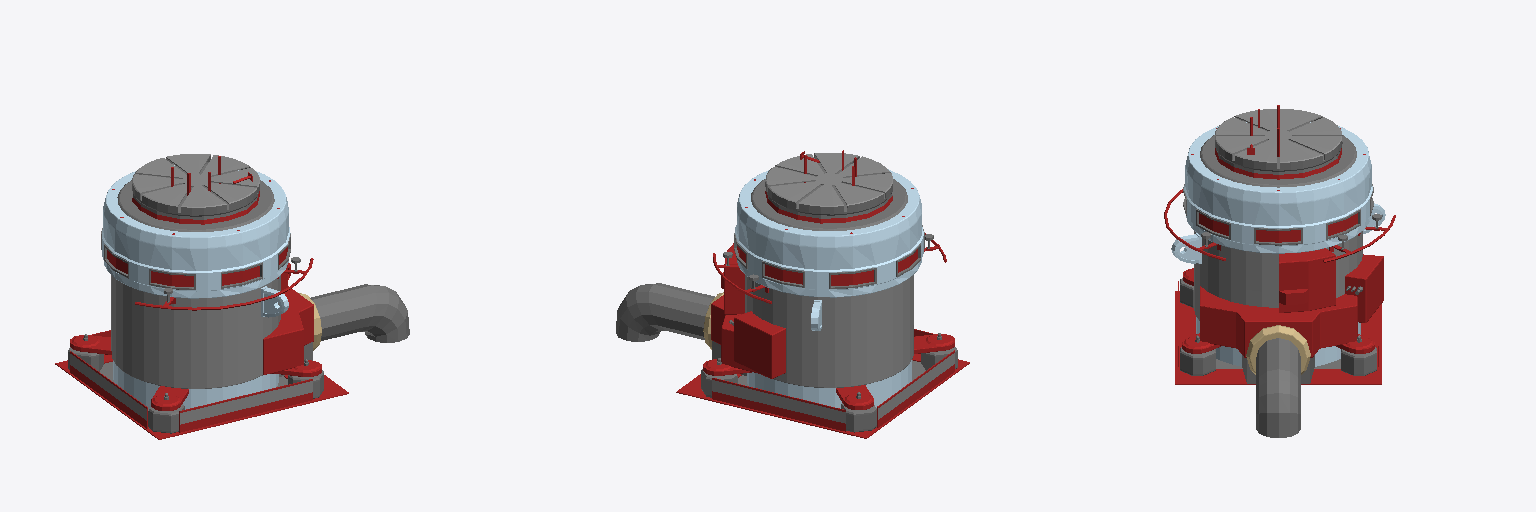
The model's file is 09ZDT_CT.obj.
3 renders of one model, left to right at view 1: azimuth 30°, elevation 25°; view 2: azimuth 150°, elevation 25°; view 3: azimuth 270°, elevation 25°, orthographic.
Parts seen in each view (by area): view 1: Metal_02, Part_metal_02, Metal_Red, Matal_05, Part_Metal_03, Metal_03, Tex; view 2: Metal_02, Metal_Red, Part_metal_02, Matal_05, Part_Metal_03, Metal_03, Tex; view 3: Metal_Red, Metal_02, Matal_05, Part_Metal_03, Metal_03, Part_metal_02, Metal_Yellow, Tex.
Part boxes in pixels (bbox=[...]): Metal_02: bbox=[102, 165, 290, 409]; Part_metal_02: bbox=[111, 275, 280, 388]; Metal_Red: bbox=[55, 191, 348, 439]; Matal_05: bbox=[68, 156, 323, 433]; Part_Metal_03: bbox=[132, 154, 259, 207]; Metal_03: bbox=[83, 257, 409, 399]; Tex: bbox=[70, 288, 312, 424]; Metal_02: bbox=[735, 169, 923, 408]; Metal_Red: bbox=[676, 191, 969, 438]; Part_metal_02: bbox=[745, 275, 913, 387]; Matal_05: bbox=[701, 154, 957, 432]; Part_Metal_03: bbox=[765, 153, 892, 206]; Metal_03: bbox=[616, 234, 941, 398]; Tex: bbox=[712, 275, 954, 423]; Metal_Red: bbox=[1164, 148, 1395, 384]; Metal_02: bbox=[1171, 122, 1385, 366]; Matal_05: bbox=[1180, 116, 1376, 383]; Part_Metal_03: bbox=[1215, 109, 1341, 162]; Metal_03: bbox=[1195, 214, 1381, 437]; Part_metal_02: bbox=[1194, 231, 1362, 320]; Metal_Yellow: bbox=[1246, 325, 1310, 374]; Tex: bbox=[1246, 253, 1277, 291].
Size of the model in its own units: 173 by 120 by 116.